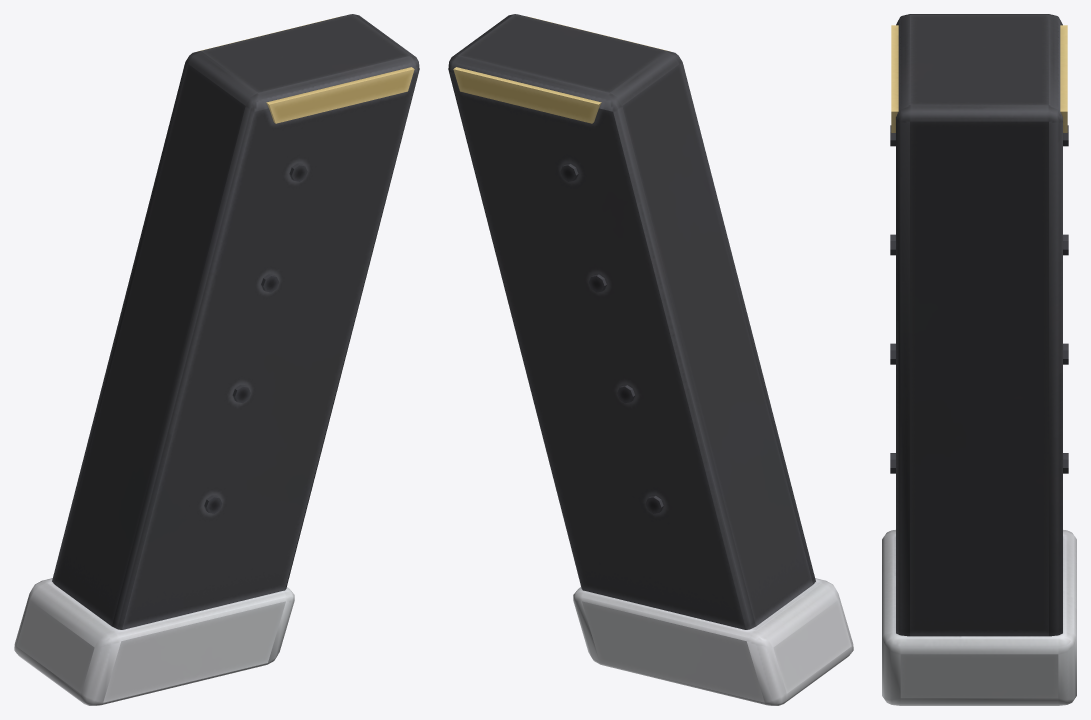
Rendered from AT_GravMag.fbx.
3 views of the same model, side by side, from view 1: azimuth 30°, elevation 25°; view 2: azimuth 150°, elevation 25°; view 3: azimuth 270°, elevation 25° (orthographic). The views are drawn at different scales.
Visible parts, largest first — view 1: AT_GravMag; view 2: AT_GravMag; view 3: AT_GravMag.
Boxes of the visible parts, x1,y1,x2,y2 form: AT_GravMag: (14, 14, 419, 705); AT_GravMag: (448, 14, 853, 705); AT_GravMag: (882, 14, 1076, 705).
Size of the model in its own units: 0.0515 by 0.082 by 0.021.
Materials: 1 (1 with a texture image).
